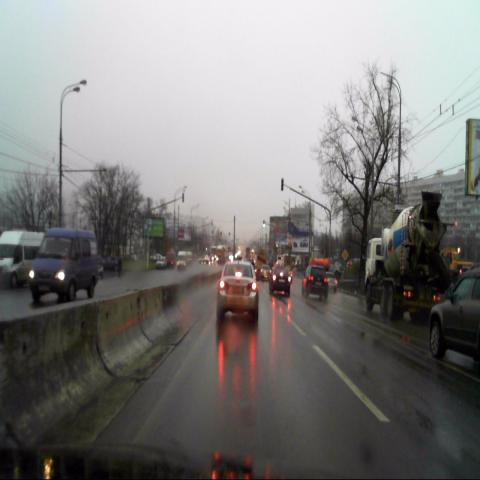2_1: (342, 248, 348, 260)
